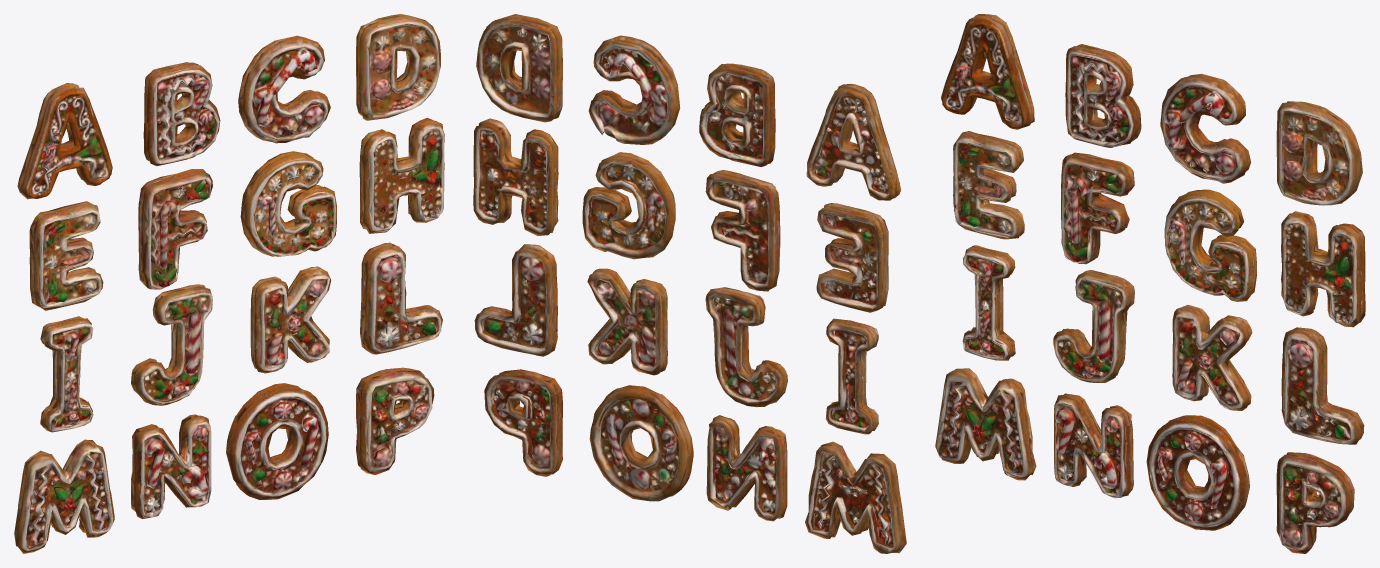
3 views of the same model, side by side, from view 1: azimuth 30°, elevation 25°; view 2: azimuth 150°, elevation 25°; view 3: azimuth 330°, elevation 25° (orthographic).
Visible parts, largest first — view 1: model_part8, model_part0, model_part10, model_part14, model_part12, model_part9, model_part1, model_part5, model_part11, model_part7, model_part2, model_part6 (+4 smaller); view 2: model_part8, model_part0, model_part14, model_part10, model_part12, model_part9, model_part1, model_part5, model_part7, model_part2, model_part11, model_part6 (+4 smaller); view 3: model_part8, model_part0, model_part10, model_part14, model_part12, model_part9, model_part1, model_part5, model_part7, model_part11, model_part2, model_part6 (+4 smaller).
Boxes of the visible parts, left/top/right/bottom form: model_part8: left=226, top=383, right=328, bottom=499; model_part0: left=14, top=439, right=114, bottom=553; model_part10: left=240, top=151, right=336, bottom=256; model_part14: left=359, top=118, right=444, bottom=233; model_part12: left=356, top=14, right=440, bottom=120; model_part9: left=238, top=35, right=330, bottom=143; model_part1: left=17, top=83, right=112, bottom=199; model_part5: left=131, top=414, right=211, bottom=518; model_part11: left=250, top=266, right=330, bottom=373; model_part7: left=143, top=62, right=220, bottom=166; model_part2: left=29, top=201, right=103, bottom=310; model_part6: left=138, top=169, right=212, bottom=289; model_part8: left=589, top=385, right=693, bottom=501; model_part0: left=805, top=441, right=906, bottom=553; model_part14: left=473, top=118, right=558, bottom=235; model_part10: left=582, top=152, right=675, bottom=259; model_part12: left=476, top=14, right=562, bottom=122; model_part9: left=588, top=35, right=680, bottom=144; model_part1: left=806, top=84, right=900, bottom=200; model_part5: left=706, top=415, right=787, bottom=521; model_part7: left=699, top=63, right=775, bottom=166; model_part2: left=816, top=203, right=888, bottom=312; model_part11: left=587, top=268, right=667, bottom=375; model_part6: left=705, top=170, right=780, bottom=291; model_part8: left=1146, top=415, right=1249, bottom=530; model_part0: left=935, top=368, right=1036, bottom=480; model_part10: left=1164, top=189, right=1256, bottom=301; model_part14: left=1281, top=211, right=1365, bottom=327; model_part12: left=1276, top=101, right=1362, bottom=205; model_part9: left=1160, top=73, right=1250, bottom=183; model_part1: left=941, top=14, right=1034, bottom=129; model_part5: left=1054, top=393, right=1133, bottom=498; model_part7: left=1065, top=44, right=1141, bottom=147; model_part11: left=1172, top=305, right=1252, bottom=410; model_part2: left=953, top=131, right=1024, bottom=239; model_part6: left=1061, top=152, right=1134, bottom=264.
Size of the model in its own units: 1.84 by 1.9 by 0.109.
Materials: 1 (1 with a texture image).
